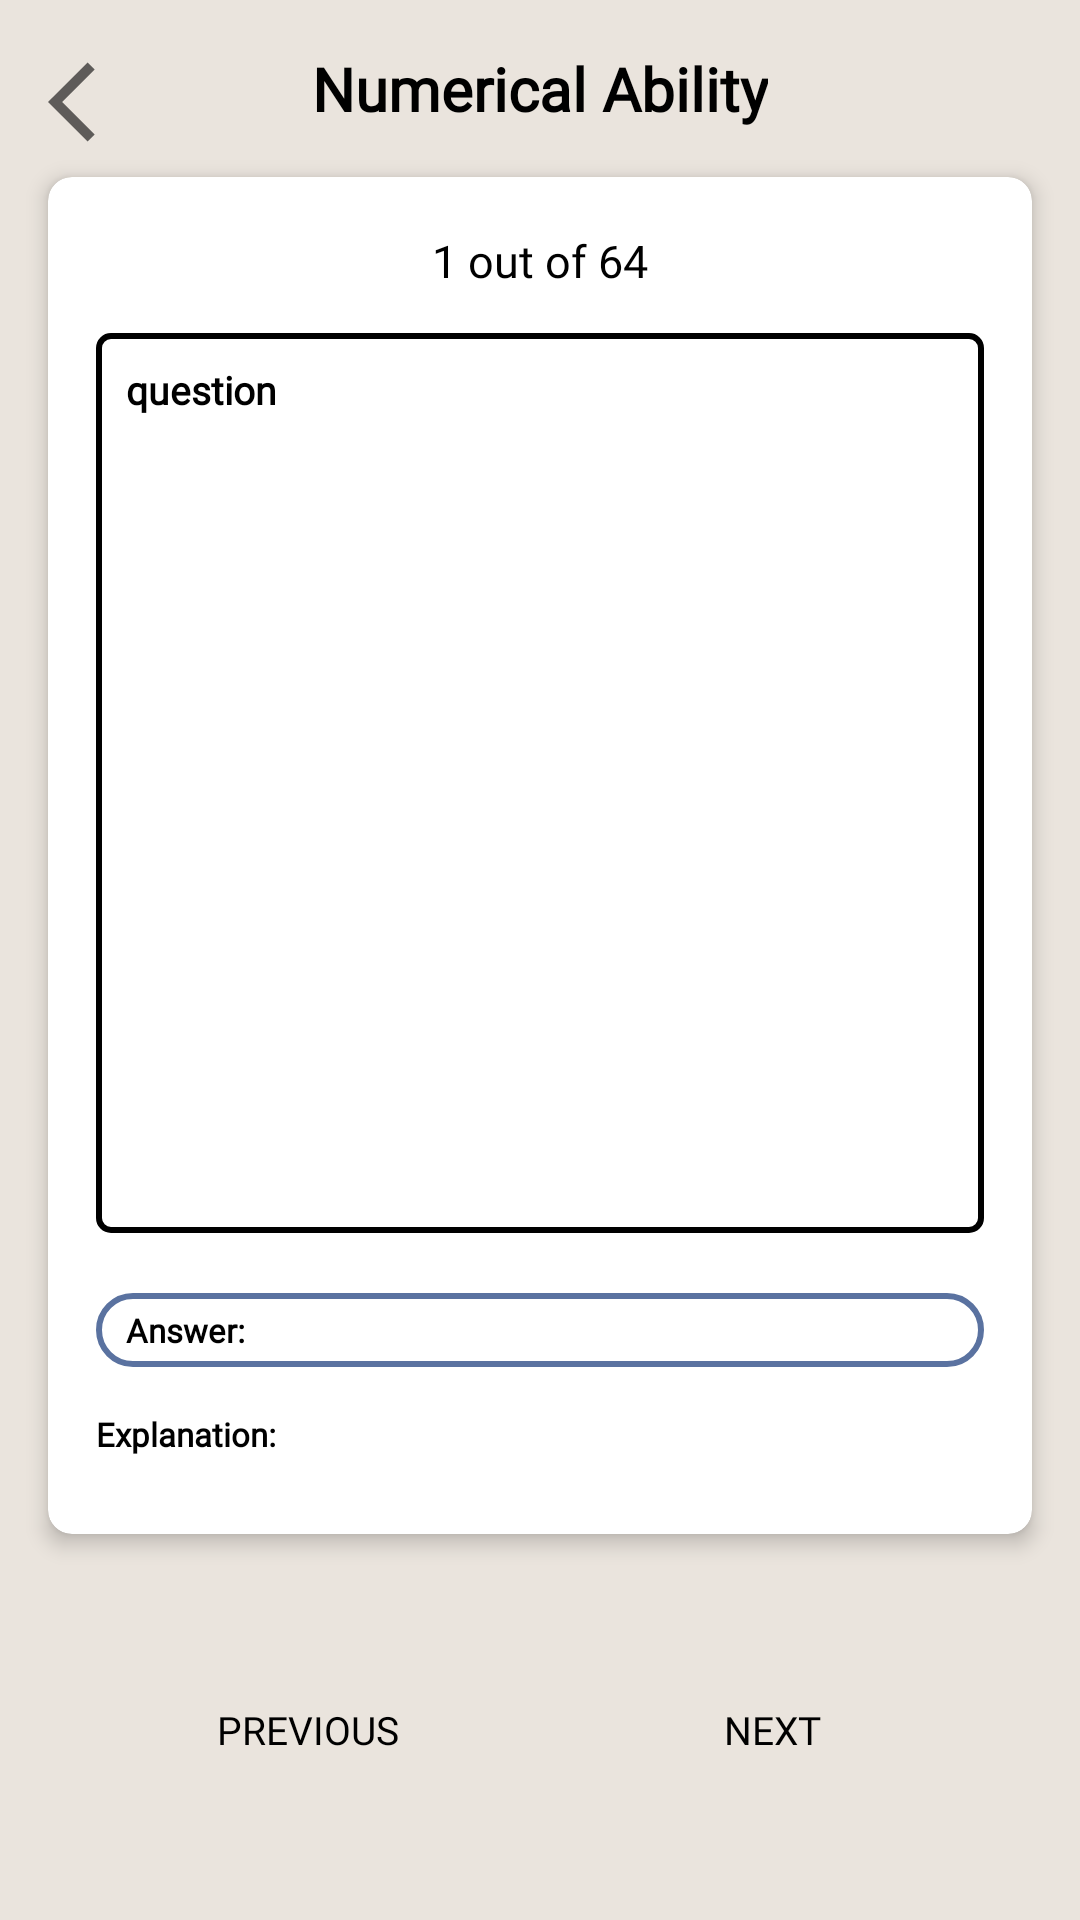

Where icons sit on this 1080px x 1920px app screen, as (x1, y1, x2, y2):
arrow back: (48, 62, 95, 142)
